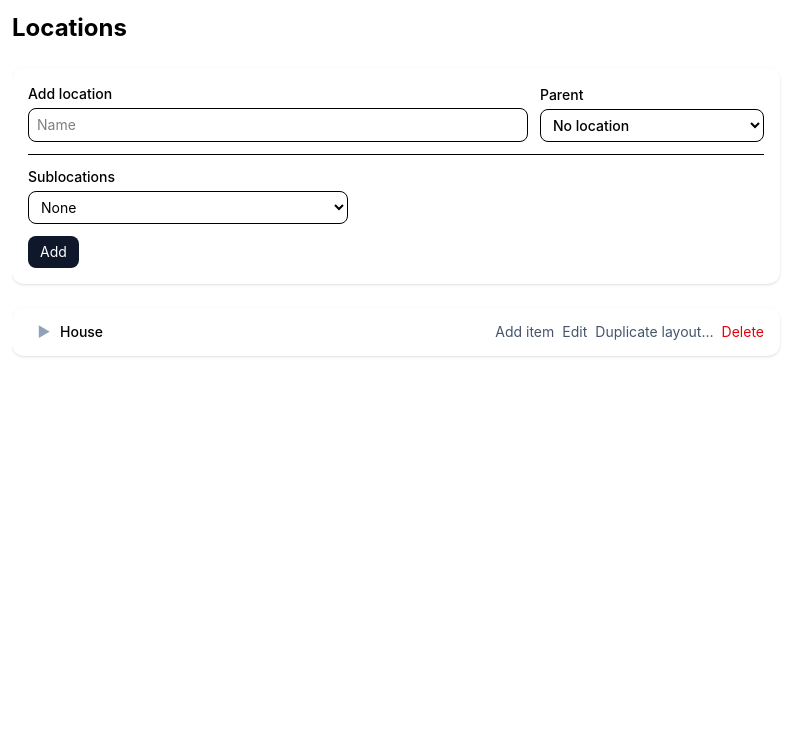
LocationsView › nested size-1 dims show the full 12-row tree with no ellipsis
Select "Generate grid" in the 2nd dropdown at (188, 208), box x1=28 y1=191 x2=348 y2=224
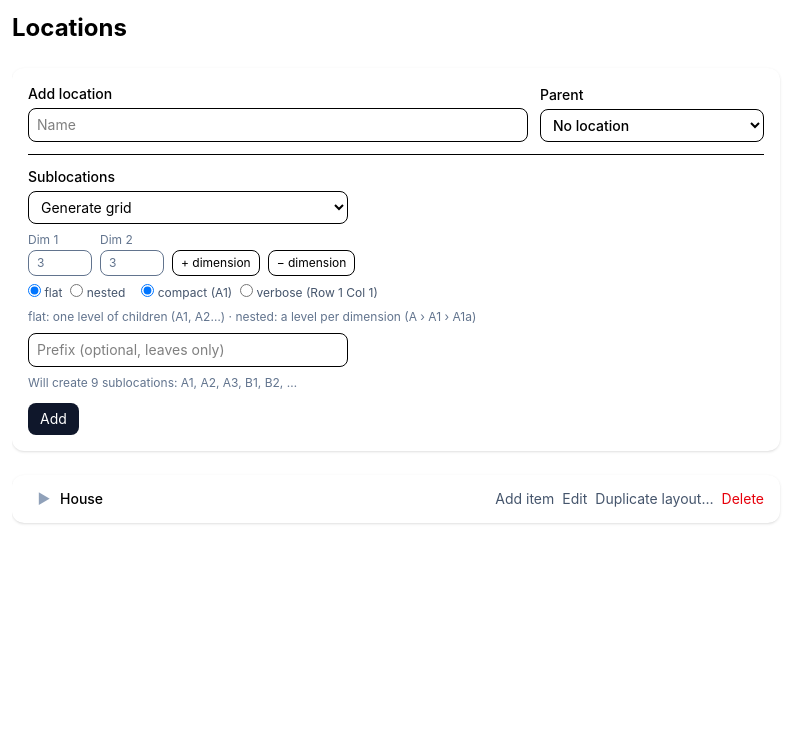
Click the radio button labelled "nested" at (77, 290), box x1=70 y1=284 x2=83 y2=297
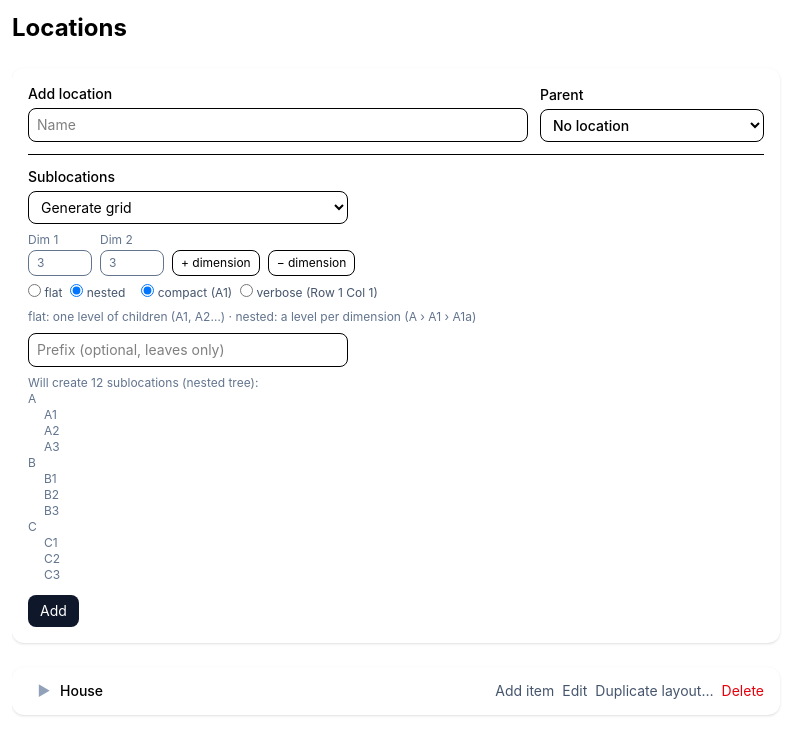
Click the button "+ dimension" at (216, 263), box x1=172 y1=250 x2=260 y2=276
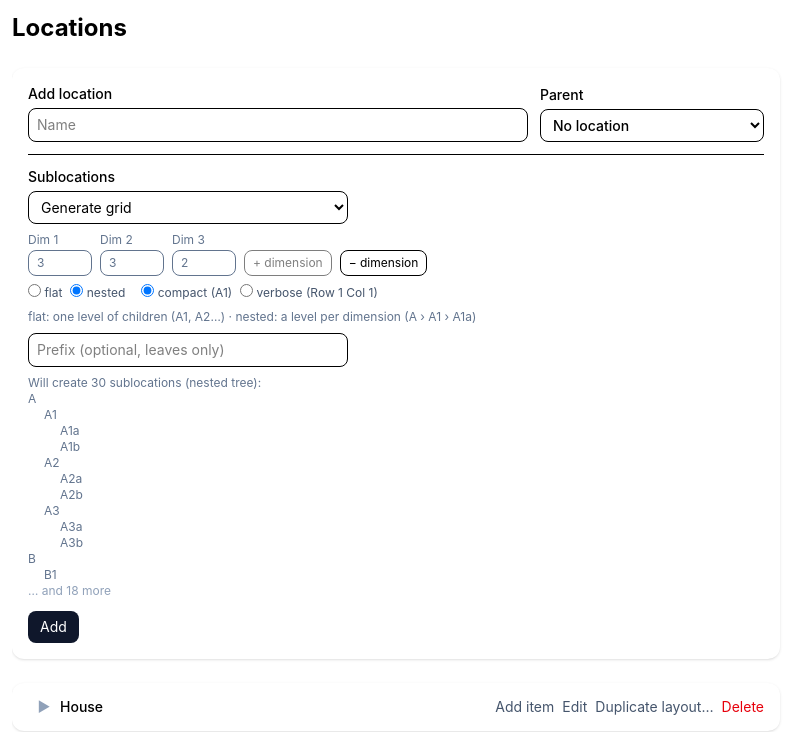
Replace the text in the number field labelled "Dim 1" with "4" at (60, 263), box x1=28 y1=250 x2=92 y2=276
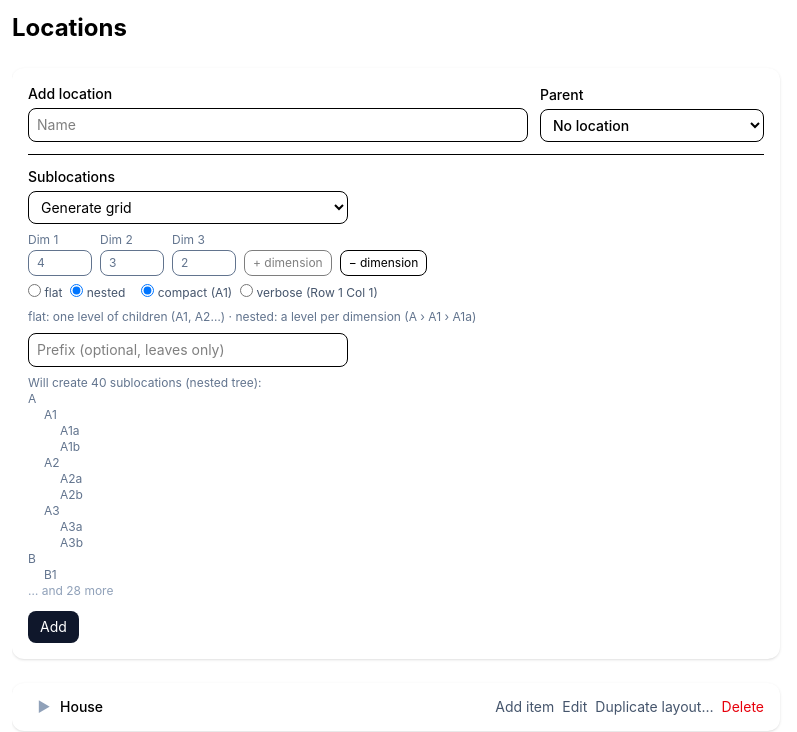
Replace the text in the number field labelled "Dim 2" with "1" at (132, 263), box x1=100 y1=250 x2=164 y2=276
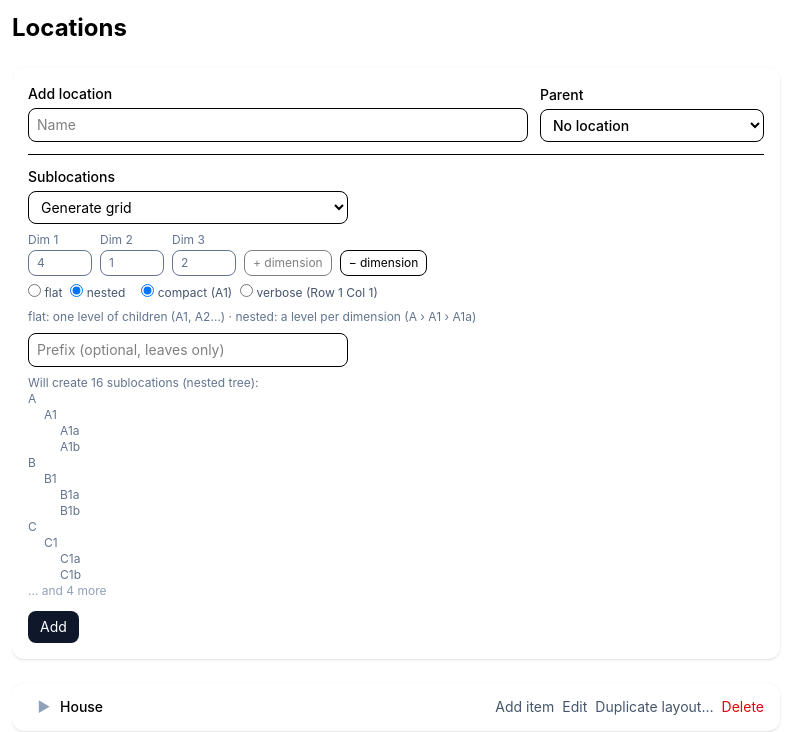
Replace the text in the number field labelled "Dim 3" with "1" at (204, 263), box x1=172 y1=250 x2=236 y2=276
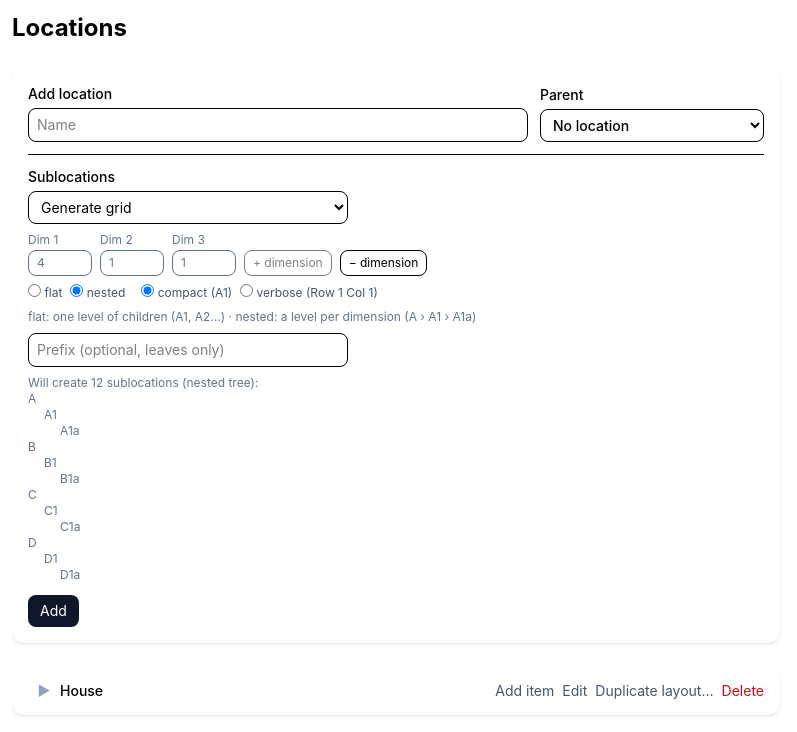
Expected: the text "…" is not shown
Expected: the text "12 sublocations" is shown, x1=28 y1=375 x2=258 y2=390
